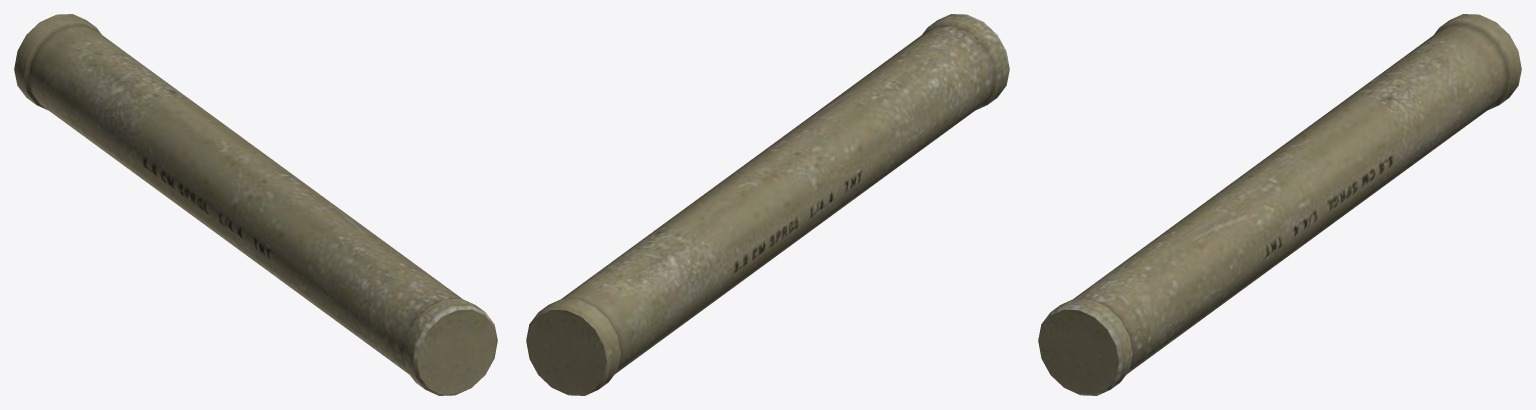
The model's file is military_flak88_tube.glb.
The picture shows the model from 3 angles, left to right: view 1: azimuth 30°, elevation 25°; view 2: azimuth 150°, elevation 25°; view 3: azimuth 330°, elevation 25°; orthographic projection.
Size of the model in its own units: 4.73 by 4.73 by 38.79.
Materials: 1 (1 with a texture image).
